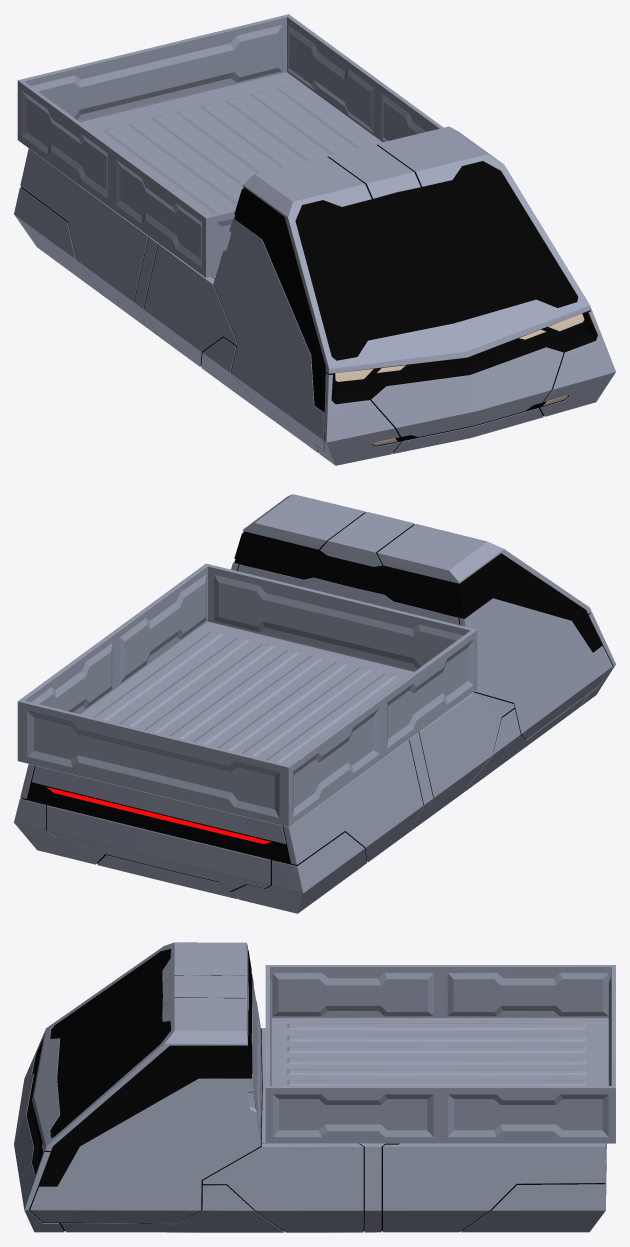
File: SFV_031_01.fbx
The picture shows the model from 3 angles, top to bottom: view 1: azimuth 30°, elevation 25°; view 2: azimuth 150°, elevation 25°; view 3: azimuth 270°, elevation 25°; orthographic projection. The views are drawn at different scales.
Parts seen in each view (by area): view 1: Cube.001, Cube.003, Cube.008, Cube, Cube.007, Cube.011, Cube.015, Cube.010, Cube.014, Cube.004, Cube.016, Cube.009 (+4 smaller); view 2: Cube.001, Cube.007, Cube.004, Cube.008, Cube, Cube.015, Cube.017, Cube.016, Cube.014, Cube.018, Cube.009, Cube.019 (+4 smaller); view 3: Cube.001, Cube.007, Cube.015, Cube.014, Cube.008, Cube.003, Cube, Cube.004, Cube.016, Cube.012, Cube.013, Cube.009 (+3 smaller).
Boxes of the visible parts, x1,y1,x2,y2 form: Cube.001: [17, 14, 443, 277]; Cube.003: [301, 168, 568, 352]; Cube.008: [243, 126, 591, 373]; Cube: [21, 145, 597, 452]; Cube.007: [213, 218, 324, 450]; Cube.011: [371, 347, 563, 436]; Cube.015: [20, 148, 148, 328]; Cube.010: [316, 310, 615, 465]; Cube.014: [144, 244, 237, 366]; Cube.004: [234, 189, 322, 406]; Cube.016: [14, 187, 105, 297]; Cube.009: [327, 144, 420, 198]; Cube.001: [17, 563, 477, 827]; Cube.007: [231, 562, 612, 739]; Cube.004: [234, 533, 599, 647]; Cube.008: [242, 494, 591, 614]; Cube: [21, 512, 612, 897]; Cube.015: [20, 740, 423, 864]; Cube.017: [46, 805, 270, 891]; Cube.016: [14, 798, 366, 913]; Cube.014: [419, 692, 514, 824]; Cube.018: [31, 765, 285, 843]; Cube.009: [320, 512, 414, 566]; Cube.019: [237, 564, 459, 624]; Cube.001: [265, 965, 615, 1143]; Cube.007: [30, 974, 260, 1223]; Cube.015: [383, 1143, 605, 1232]; Cube.014: [203, 1028, 363, 1232]; Cube.008: [32, 942, 248, 1151]; Cube.003: [55, 953, 165, 1130]; Cube: [26, 949, 604, 1231]; Cube.004: [43, 950, 251, 1182]; Cube.016: [460, 1183, 605, 1232]; Cube.012: [61, 1185, 284, 1232]; Cube.013: [261, 1031, 384, 1232]; Cube.009: [162, 975, 248, 1010].
Size of the model in its own units: 204 by 138 by 393.
